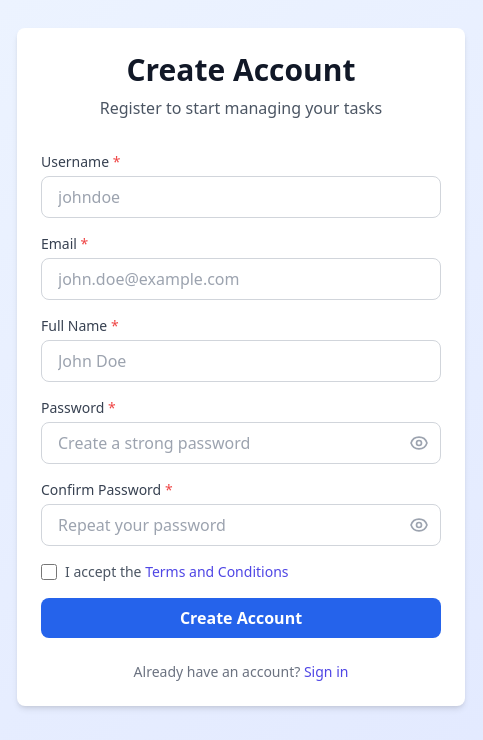
Test case: RegisterView › should show validation error for short username
Type "ab" into the field with id "username" at (241, 197), box [41,176,441,218]
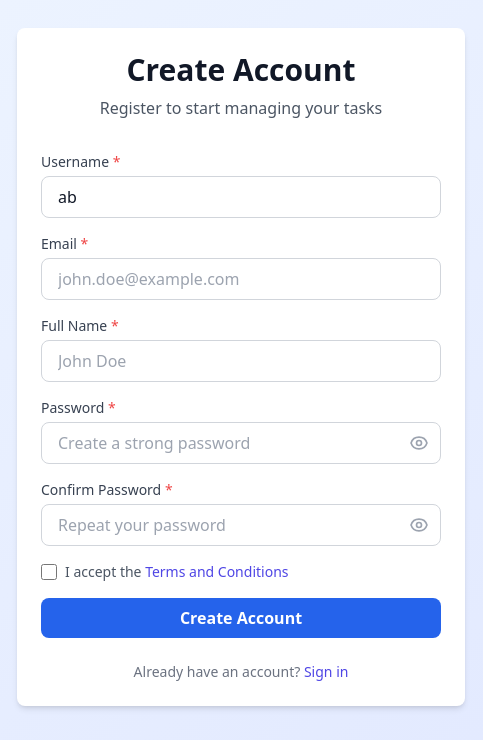
Leave the field with id "username", box [41,176,441,218]
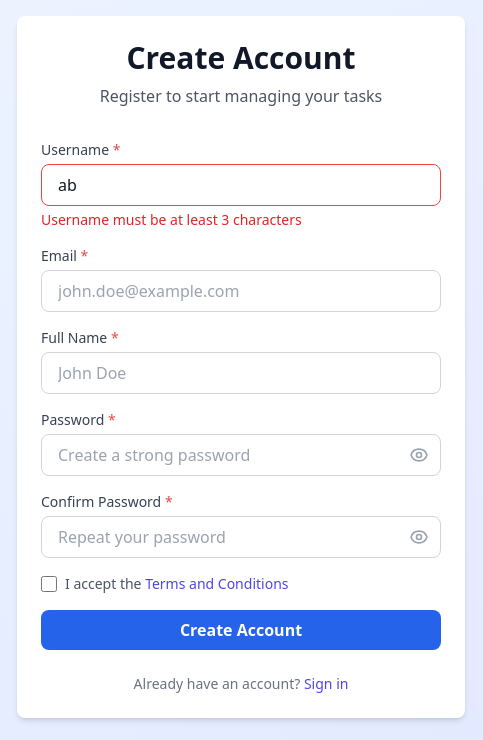
expect the text "at least 3 characters" is shown: met, box [41,210,302,229]
